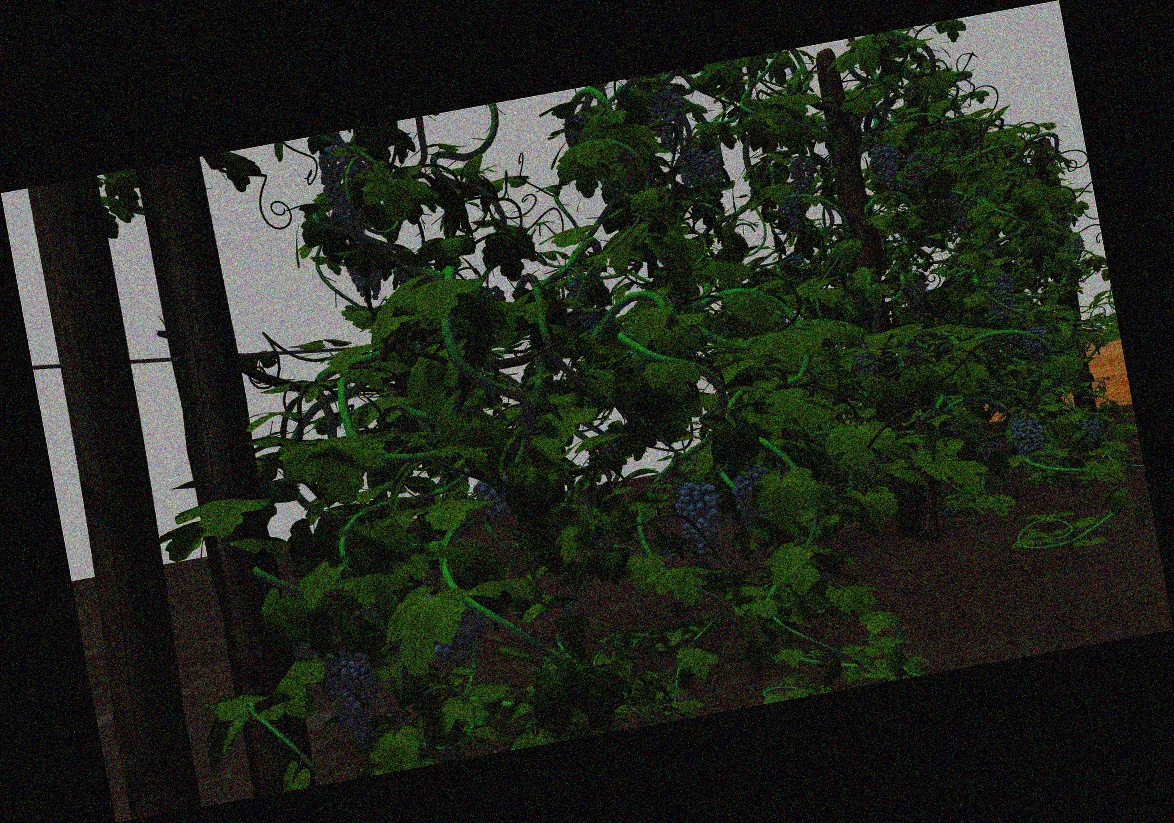grape: (324, 653, 378, 749), (324, 145, 367, 229), (679, 482, 726, 555), (430, 607, 488, 665), (733, 468, 770, 533), (650, 89, 687, 147), (474, 474, 513, 524), (869, 143, 904, 189), (983, 274, 1016, 319), (1009, 415, 1045, 455), (789, 156, 818, 193), (678, 147, 702, 191), (1024, 324, 1049, 365), (699, 148, 723, 186), (981, 431, 1007, 462), (781, 197, 803, 232), (1082, 420, 1103, 445)
